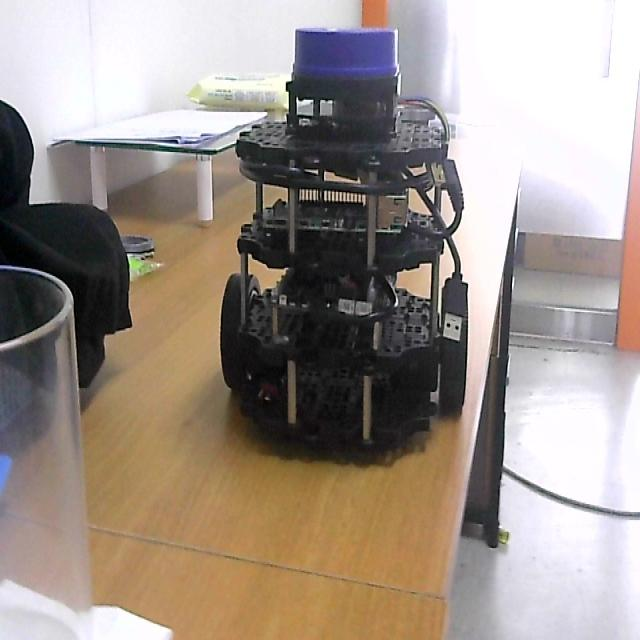turtle: (218, 23, 470, 468)
